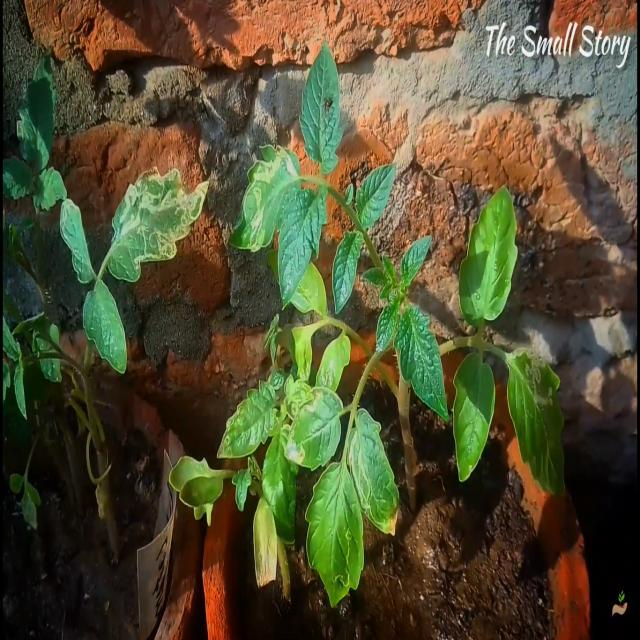Tomato healthy leaf: (458, 187, 518, 323), (394, 302, 450, 420), (276, 184, 328, 308), (452, 350, 497, 484), (82, 279, 128, 376), (331, 225, 364, 315), (353, 162, 396, 228)
Tomato target spot leaf: (102, 168, 210, 285), (507, 346, 566, 500), (305, 464, 365, 608), (229, 142, 301, 255), (348, 407, 401, 537), (217, 379, 280, 462), (286, 386, 344, 469), (59, 198, 97, 284)
